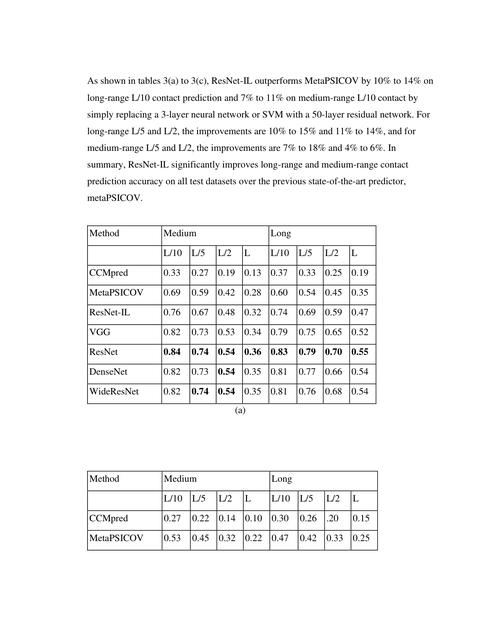box: (85, 224, 379, 416), (85, 469, 380, 554)
